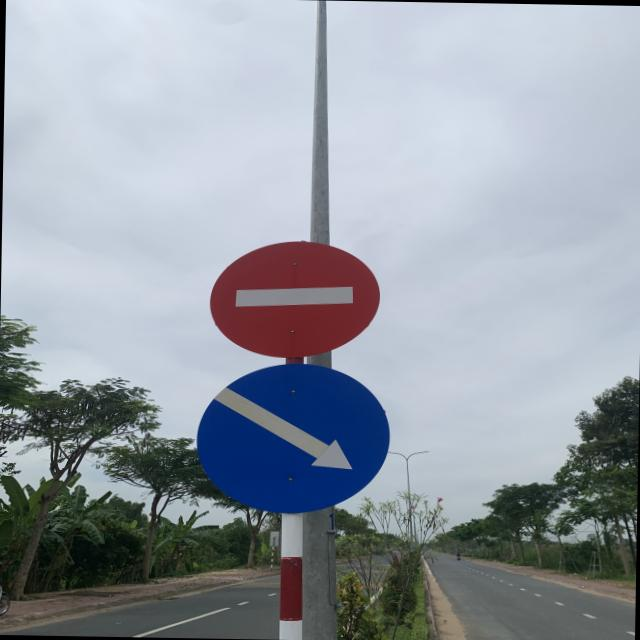Cam_Di_Nguoc_Chieu: (210, 238, 380, 358)
Chi_Huong_Di_Phai: (197, 360, 396, 515)
